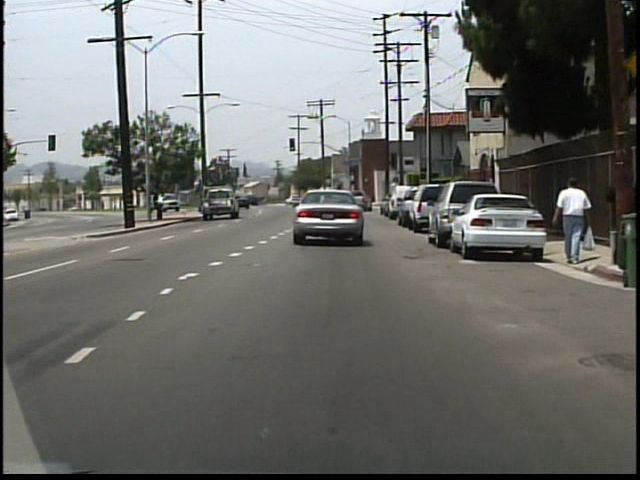person: (551, 175, 591, 268)
